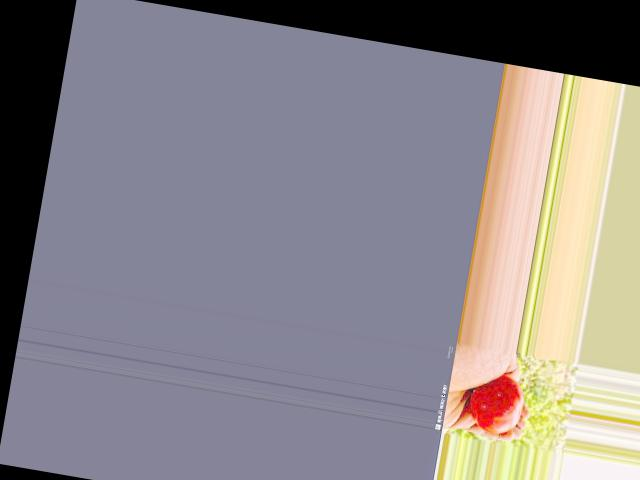tomato: (465, 370, 526, 436)
